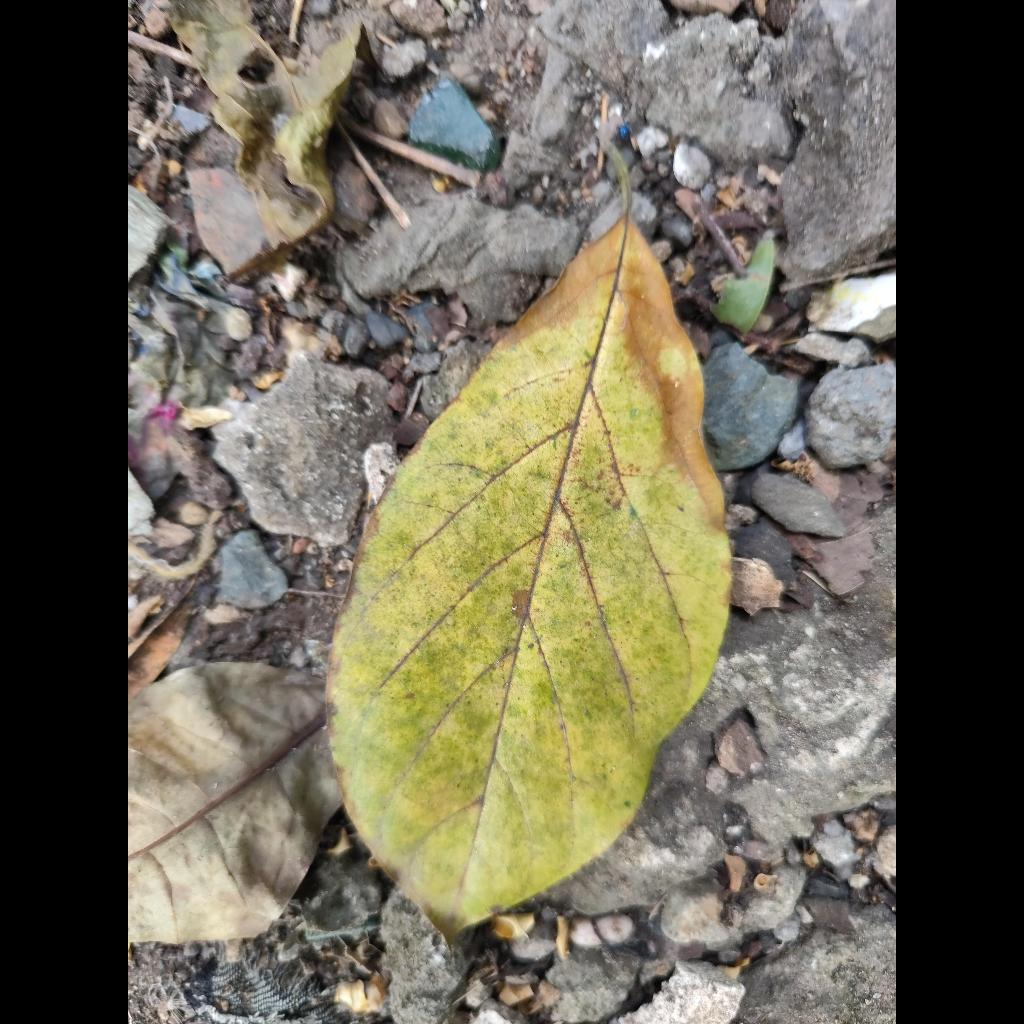nutrient_deficiency: (328, 208, 730, 937)
